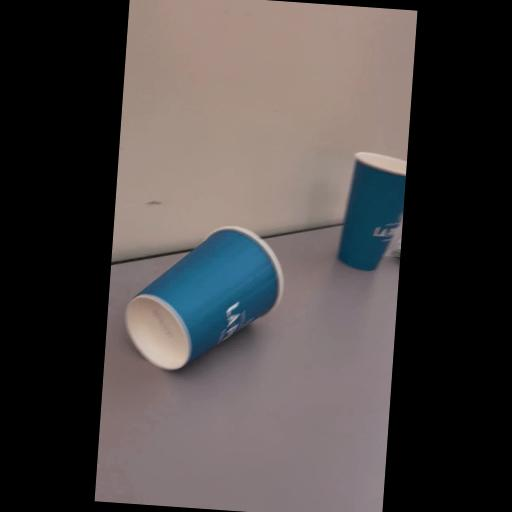lp_paper_cup: (116, 218, 286, 377), (337, 152, 408, 272)
